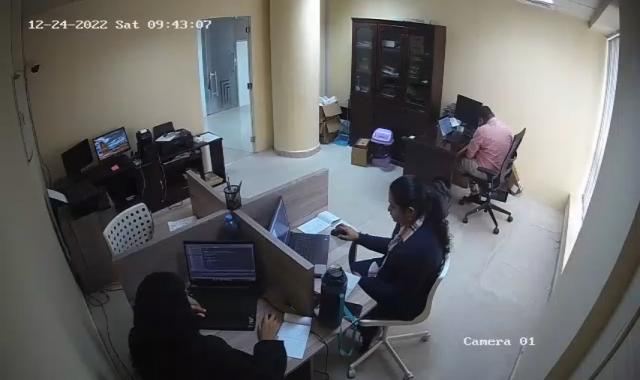no_hairnet: (133, 272, 187, 335), (387, 174, 424, 227), (474, 103, 492, 125)
